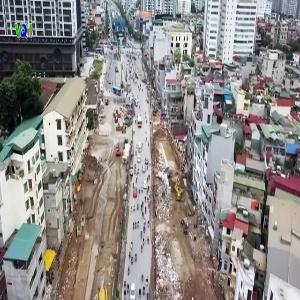drone: (119, 43, 151, 75)
